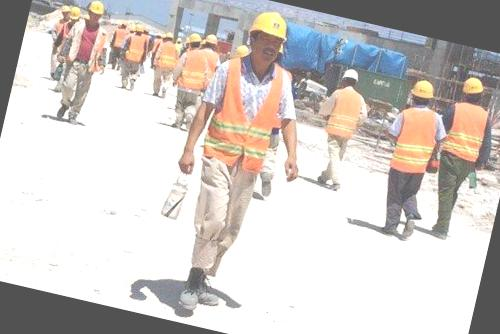helmet: (248, 7, 293, 43), (408, 75, 438, 102), (458, 72, 488, 98), (339, 64, 365, 85), (85, 0, 107, 19), (186, 32, 204, 47), (132, 20, 148, 34), (60, 2, 73, 16), (162, 29, 176, 40)
no_vest: (63, 15, 114, 79)
person: (159, 0, 325, 320), (362, 71, 456, 244), (418, 72, 500, 249), (303, 59, 377, 192), (51, 0, 121, 128), (160, 29, 222, 132), (144, 26, 184, 101), (116, 21, 156, 94), (44, 0, 76, 78), (106, 19, 130, 72)
